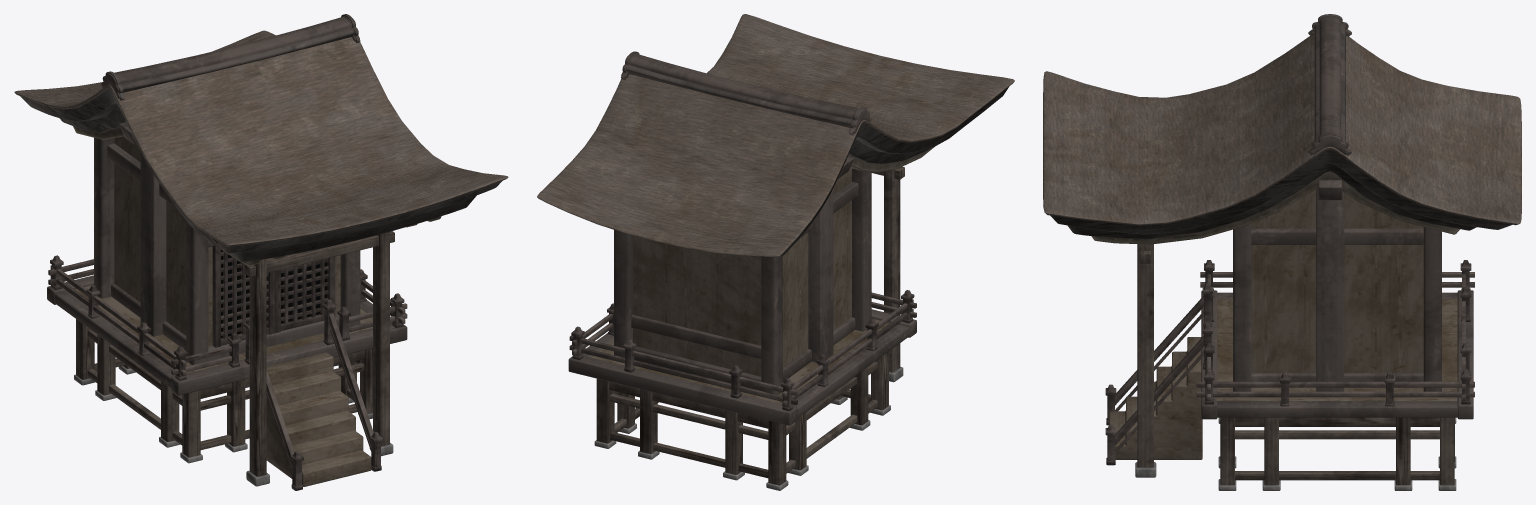
The model's file is Yashiro.fbx.
The picture shows the model from 3 angles, left to right: view 1: azimuth 30°, elevation 25°; view 2: azimuth 150°, elevation 25°; view 3: azimuth 270°, elevation 25°; orthographic projection. The views are drawn at different scales.
Visible parts, largest first — view 1: Yashiro; view 2: Yashiro; view 3: Yashiro.
Boxes of the visible parts, box(x1,y1,x2,y2) form: Yashiro: box(14, 14, 508, 490); Yashiro: box(537, 14, 1014, 490); Yashiro: box(1043, 14, 1521, 490).
Size of the model in its own units: 2.74 by 3.32 by 3.9.
